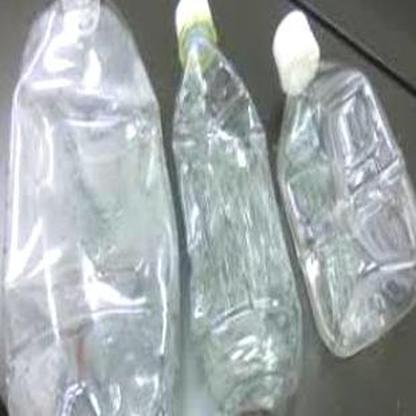plastic bottle: (4, 1, 178, 416), (172, 1, 306, 412), (271, 10, 416, 357)
